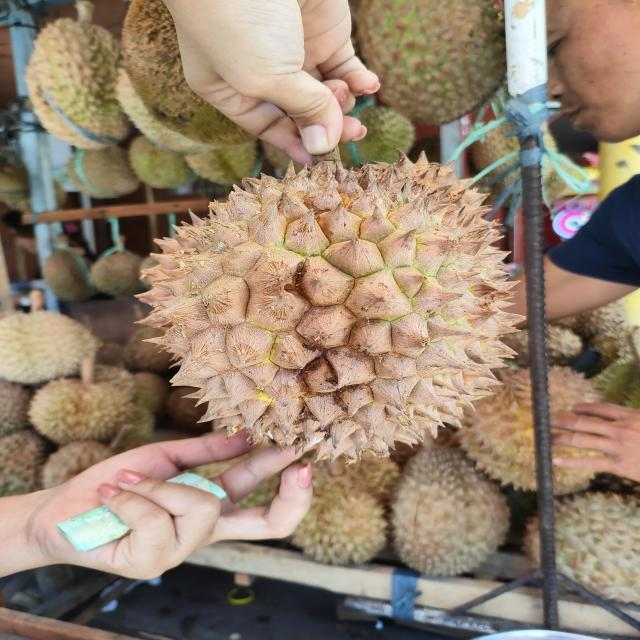mature: (142, 154, 524, 462)
